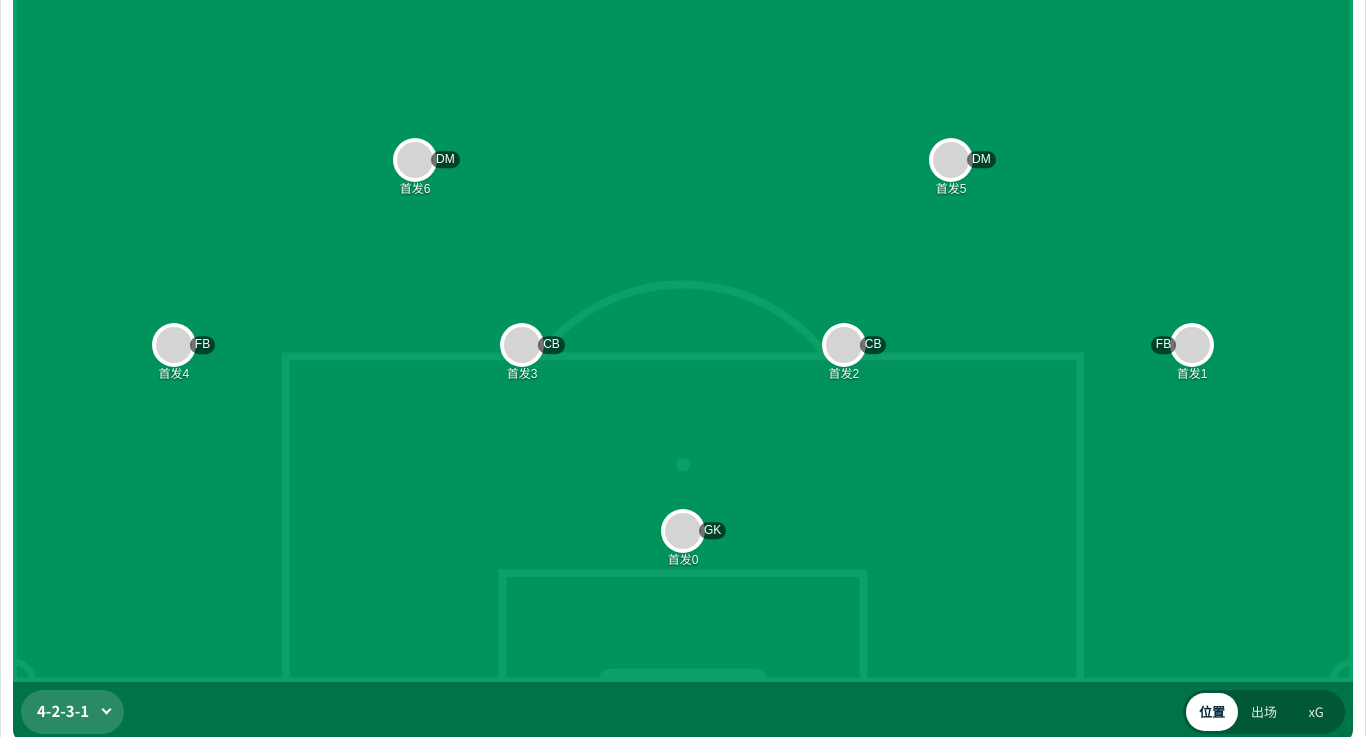
Test: 选人面板 › Esc 关闭面板,不改阵容
(page scrolled)
Click the button with test id "slot-2" at (844, 354), box [806,325,882,382]
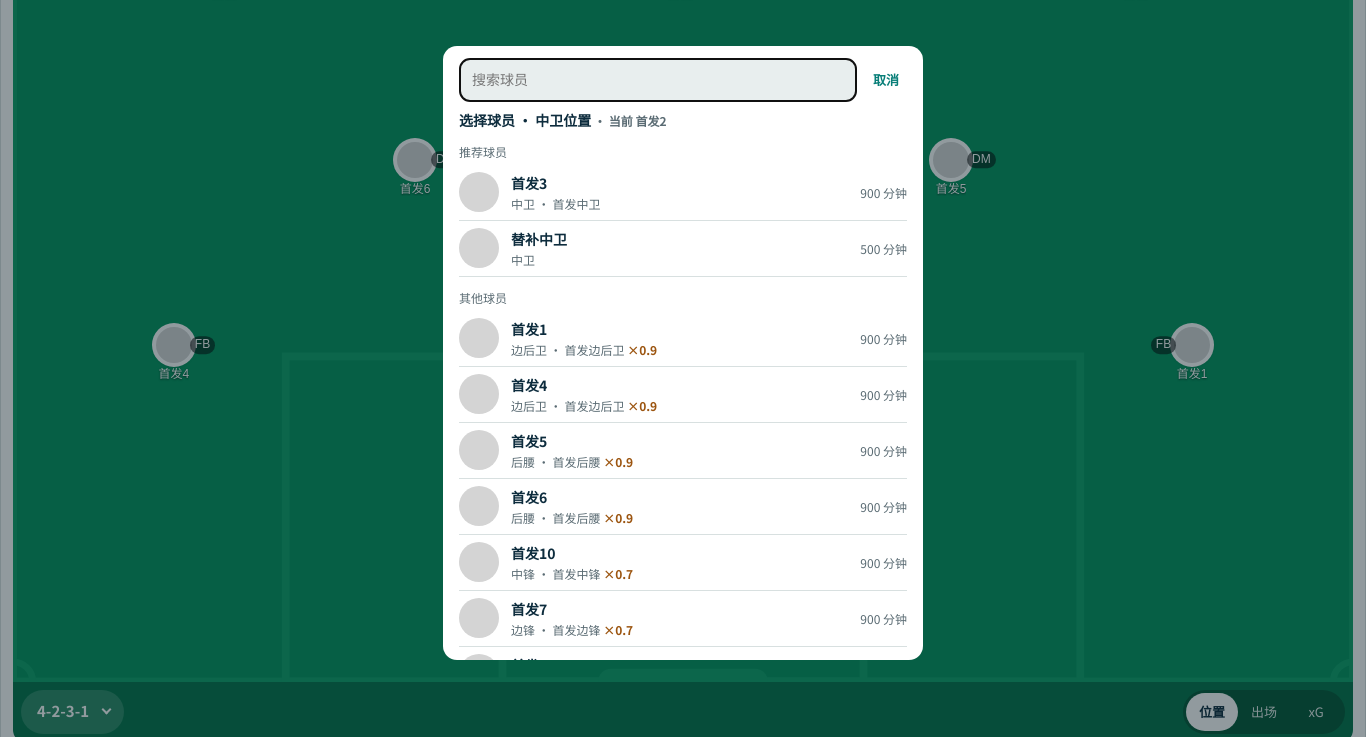
Check: the dialog is shown, box [443,46,923,660]
Press Escape
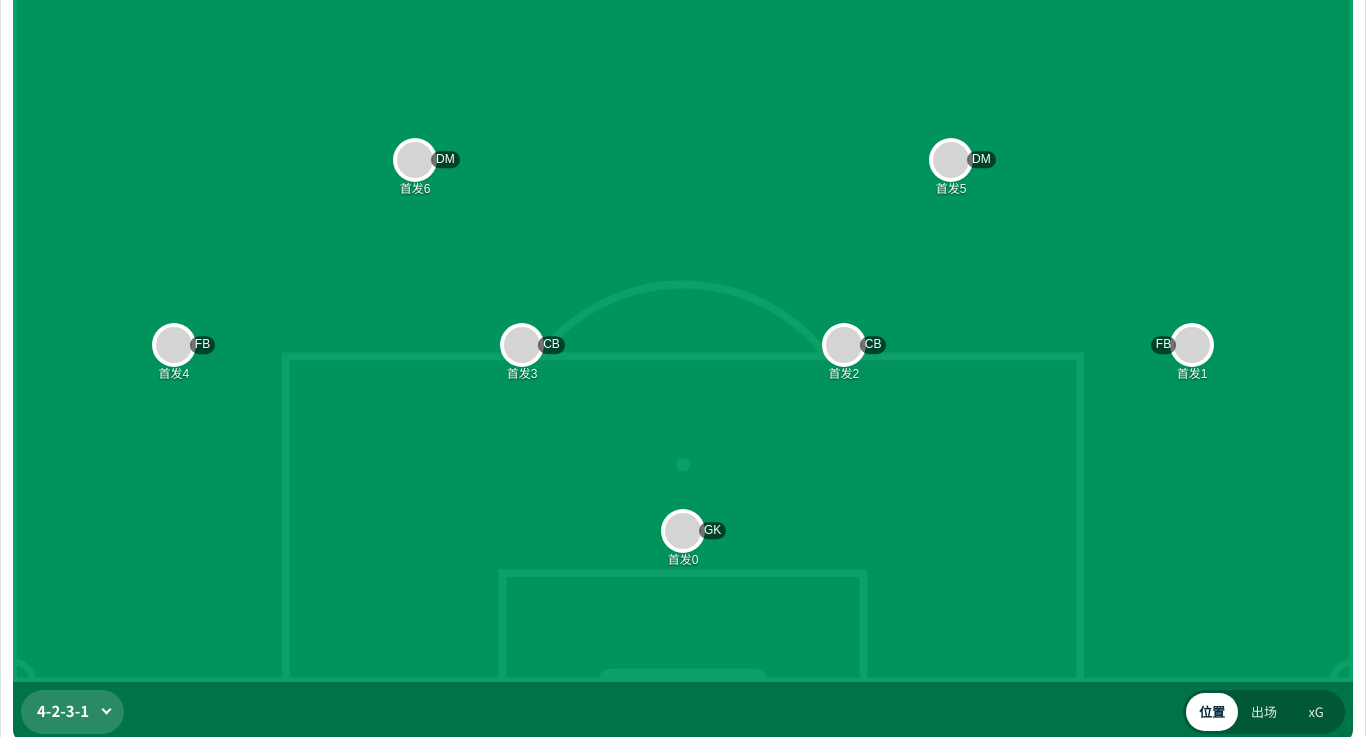
Check: the dialog is gone
